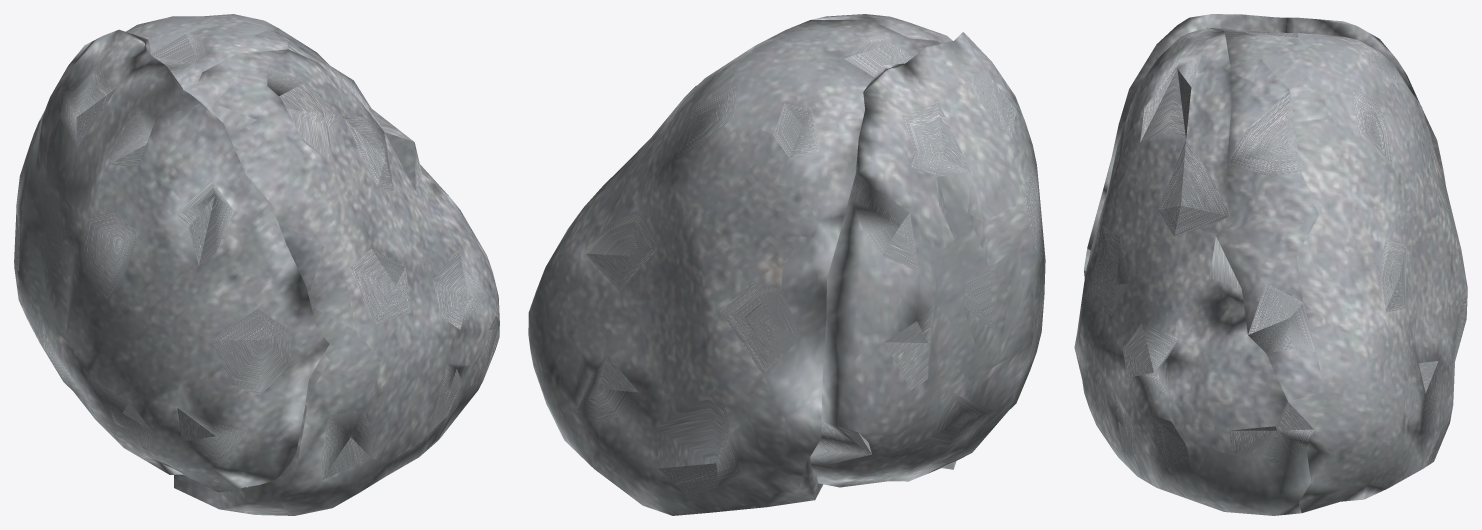
The model's file is TungstenOre_Depleted.glb.
The picture shows the model from 3 angles, left to right: view 1: azimuth 30°, elevation 25°; view 2: azimuth 150°, elevation 25°; view 3: azimuth 270°, elevation 25°; orthographic projection. The views are drawn at different scales.
Parts seen in each view (by area): view 1: Rock 1.003, Rock 3.003, Rock 2.003; view 2: Rock 2.003, Rock 1.003, Rock 3.003; view 3: Rock 2.003, Rock 3.003, Rock 1.003.
Part boxes in pixels (<box>): Rock 1.003: <box>14,29,329,492</box>; Rock 3.003: <box>174,49,499,515</box>; Rock 2.003: <box>126,14,448,195</box>; Rock 2.003: <box>528,20,940,515</box>; Rock 1.003: <box>810,32,1045,487</box>; Rock 3.003: <box>811,14,956,469</box>; Rock 2.003: <box>1207,28,1467,512</box>; Rock 3.003: <box>1074,28,1314,515</box>; Rock 1.003: <box>1084,14,1445,278</box>.
Bounding box in the file's own units: 1.05 × 1.05 × 0.9288.
Materials: 1 (1 with a texture image).
